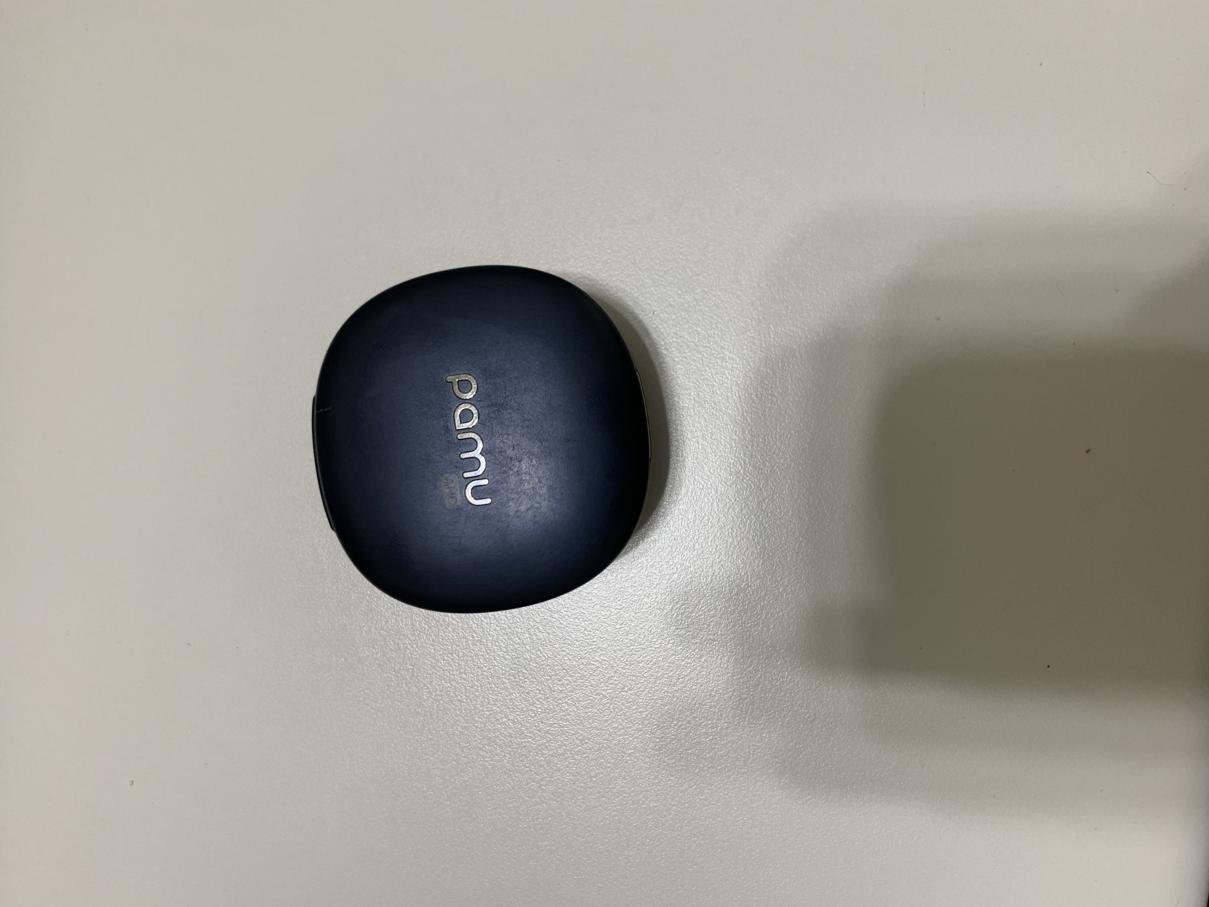pami: (296, 249, 666, 624)
